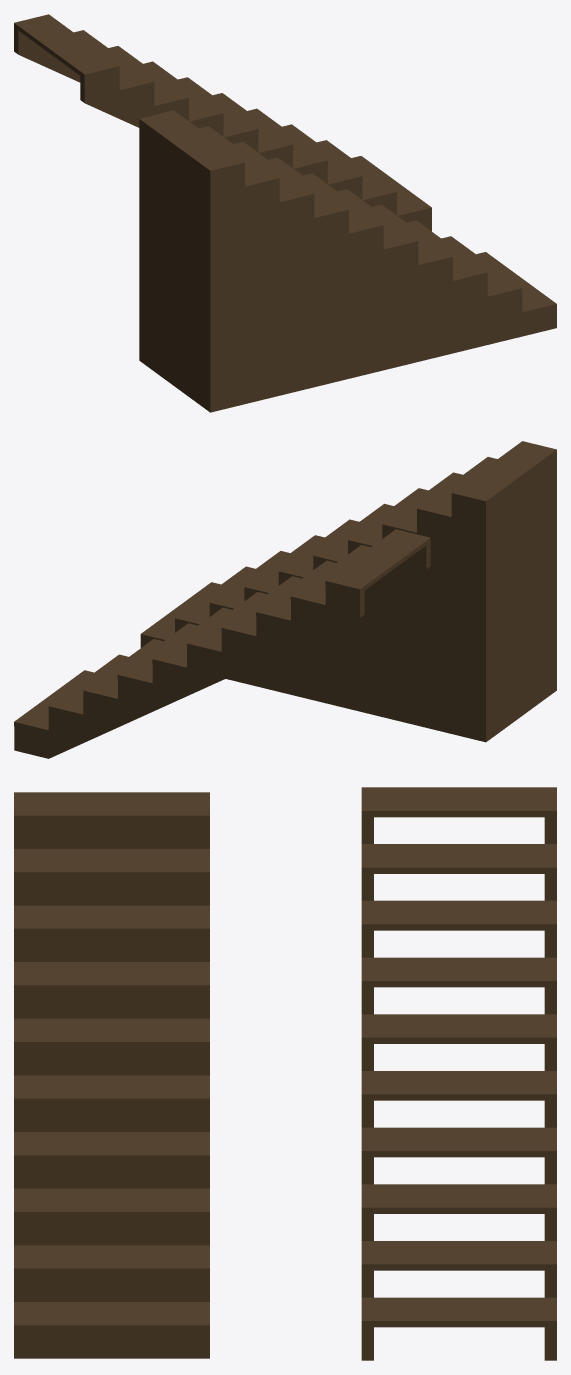
The model's file is Stairs.fbx.
3 renders of one model, top to bottom at view 1: azimuth 30°, elevation 25°; view 2: azimuth 150°, elevation 25°; view 3: azimuth 270°, elevation 25°, orthographic. The views are drawn at different scales.
Parts seen in each view (by area): view 1: Stair1, Stairs2; view 2: Stair1, Stairs2; view 3: Stair1, Stairs2.
Part boxes in pixels (box(x1,y1,x2,y2)): Stair1: box(139, 110, 556, 412); Stairs2: box(14, 14, 431, 231); Stair1: box(140, 441, 556, 742); Stairs2: box(14, 529, 430, 758); Stair1: box(14, 792, 209, 1358); Stairs2: box(361, 787, 556, 1360).
Size of the model in its own units: 11.29 by 7.64 by 11.07.
